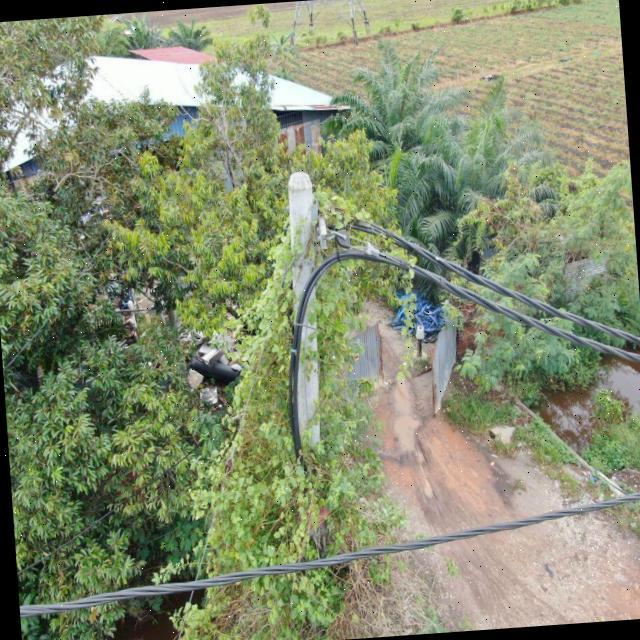critical vegetation: (135, 177, 404, 640)
